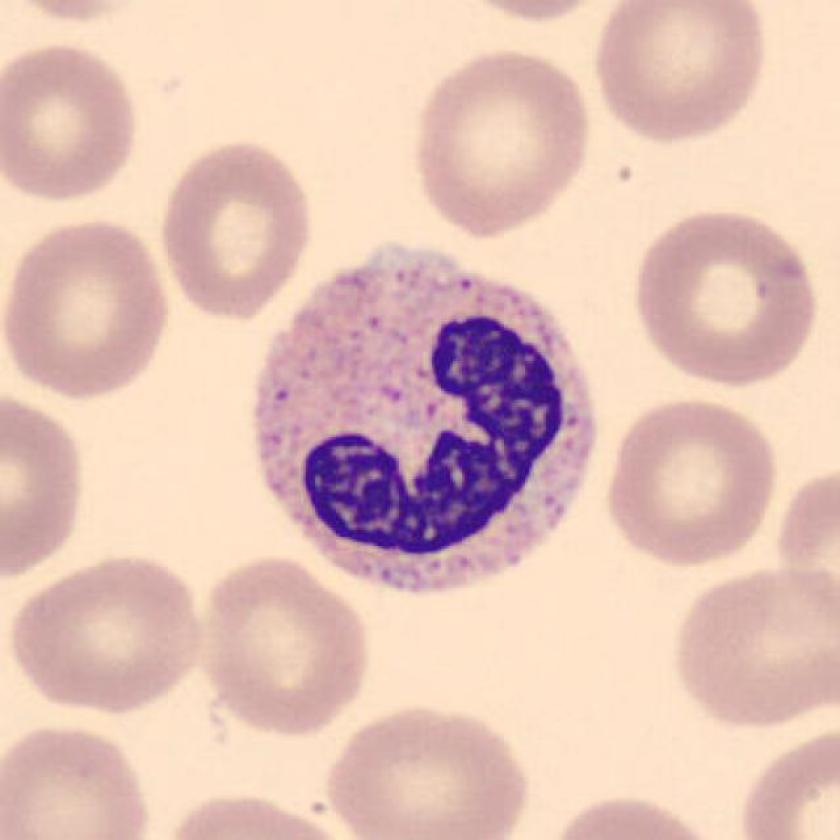neutrophil: (258, 246, 596, 593)
